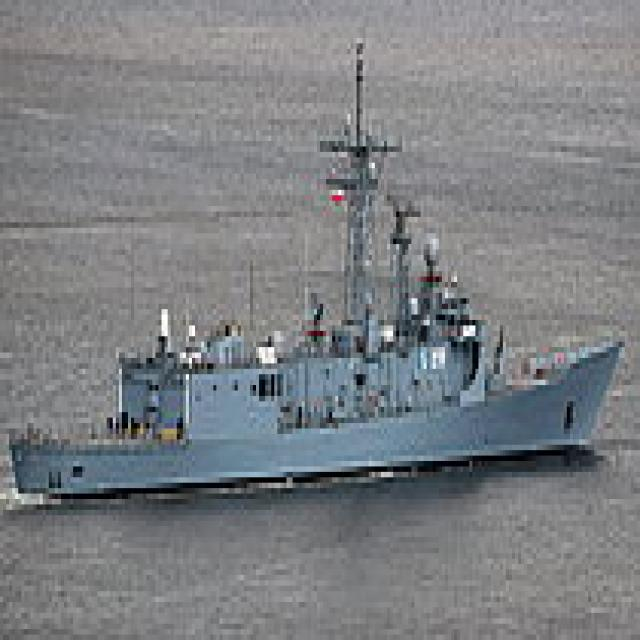Warship: (3, 27, 625, 494)
